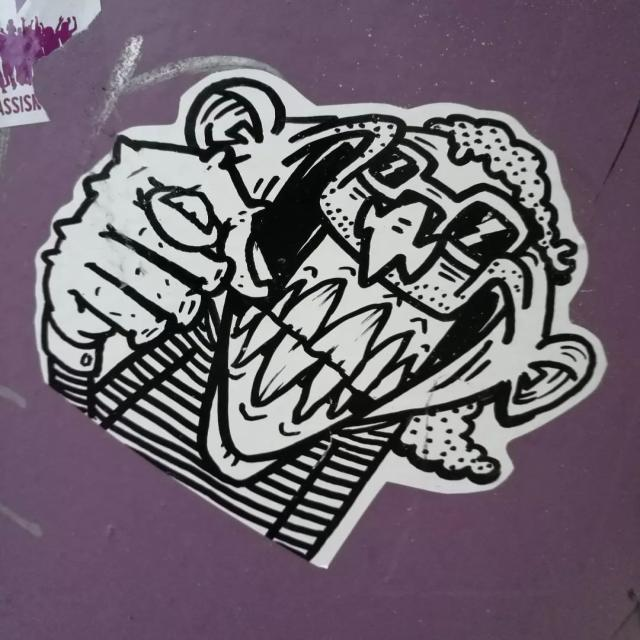-: (6, 45, 637, 562)
